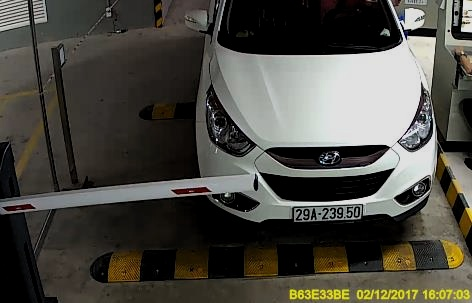plate: (292, 199, 365, 226)
